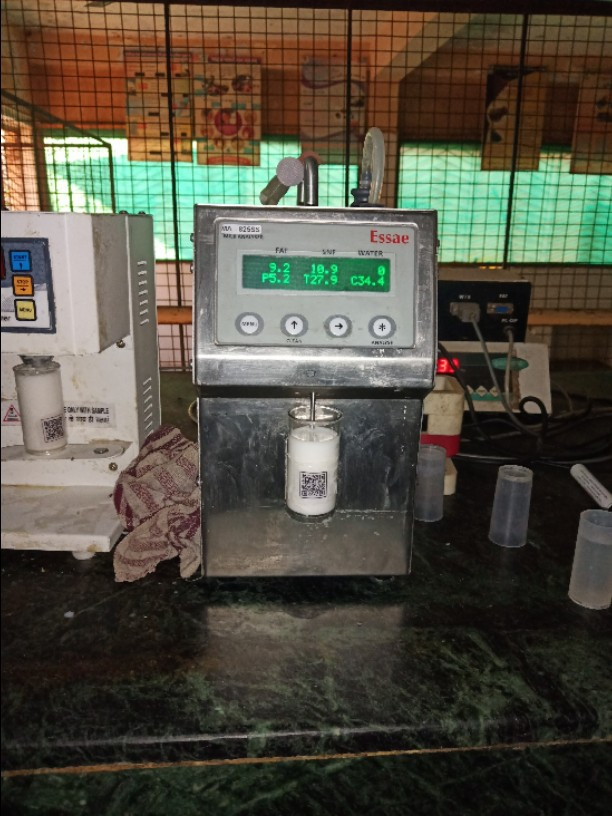lcd: (243, 253, 393, 293)
qr: (298, 472, 331, 499)
